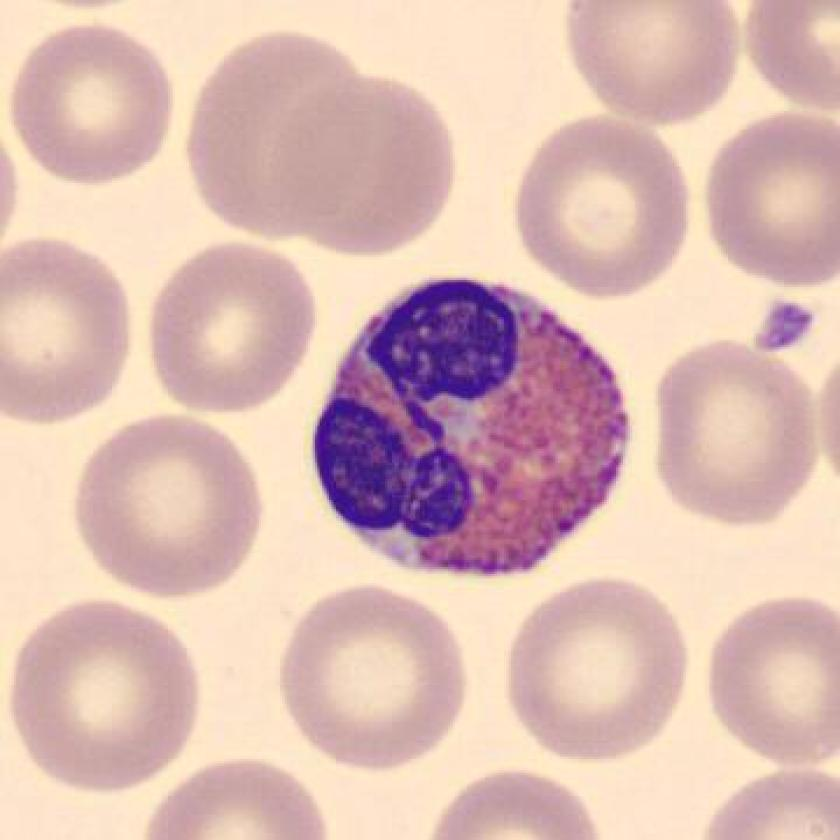eosinophil: (302, 265, 643, 589)
